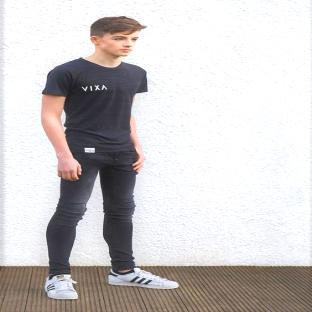Human: (42, 17, 177, 299)
